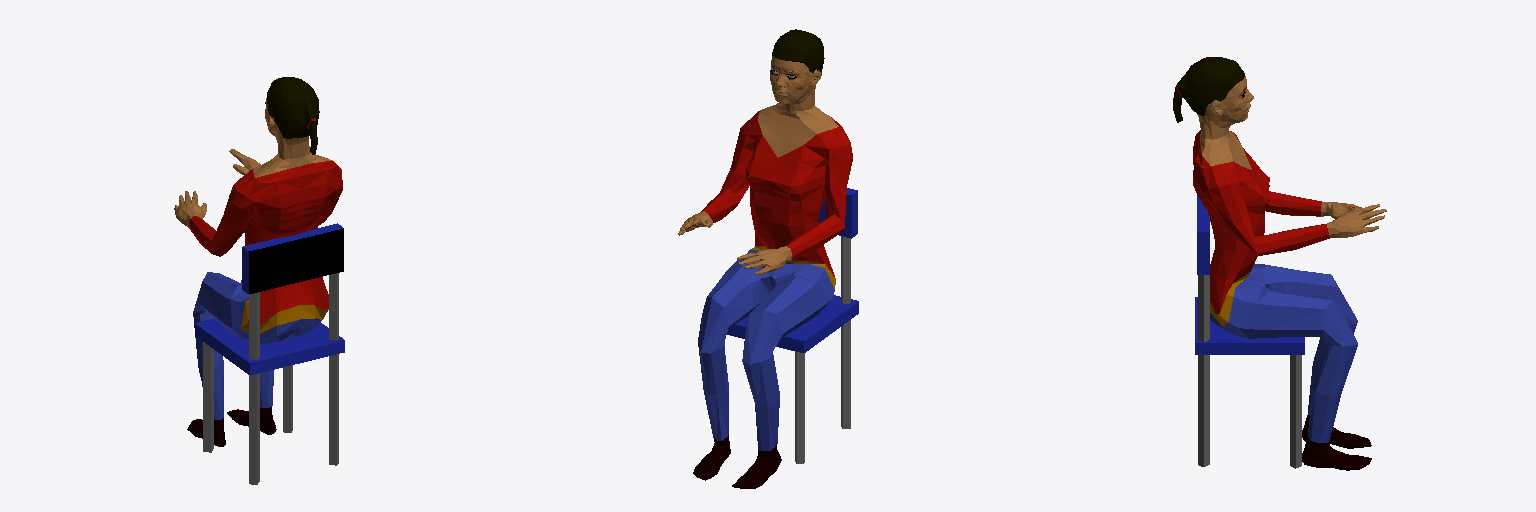
File: personsit_000001.obj
The picture shows the model from 3 angles: view 1: azimuth 30°, elevation 25°; view 2: azimuth 150°, elevation 25°; view 3: azimuth 270°, elevation 25°; orthographic projection.
Visible parts, largest first — view 1: Cube, Cube.001_Cube.002; view 2: Cube, Cube.001_Cube.002; view 3: Cube, Cube.001_Cube.002.
Boxes of the visible parts, box(x1,y1,x2,y2) form: Cube: box(174, 77, 342, 446); Cube.001_Cube.002: box(195, 223, 344, 484); Cube: box(678, 29, 852, 488); Cube.001_Cube.002: box(724, 188, 858, 463); Cube: box(1173, 57, 1386, 470); Cube.001_Cube.002: box(1195, 195, 1304, 468).
Size of the model in its own units: 24.43 by 74.35 by 36.22.